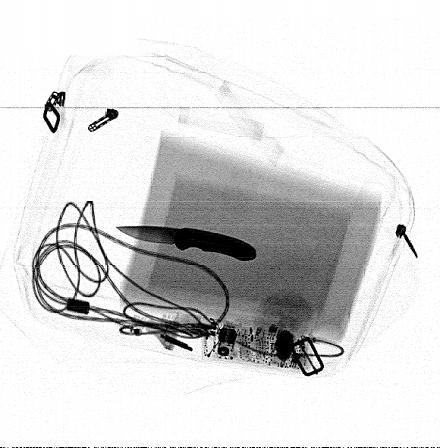Knife: (114, 225, 258, 262)
